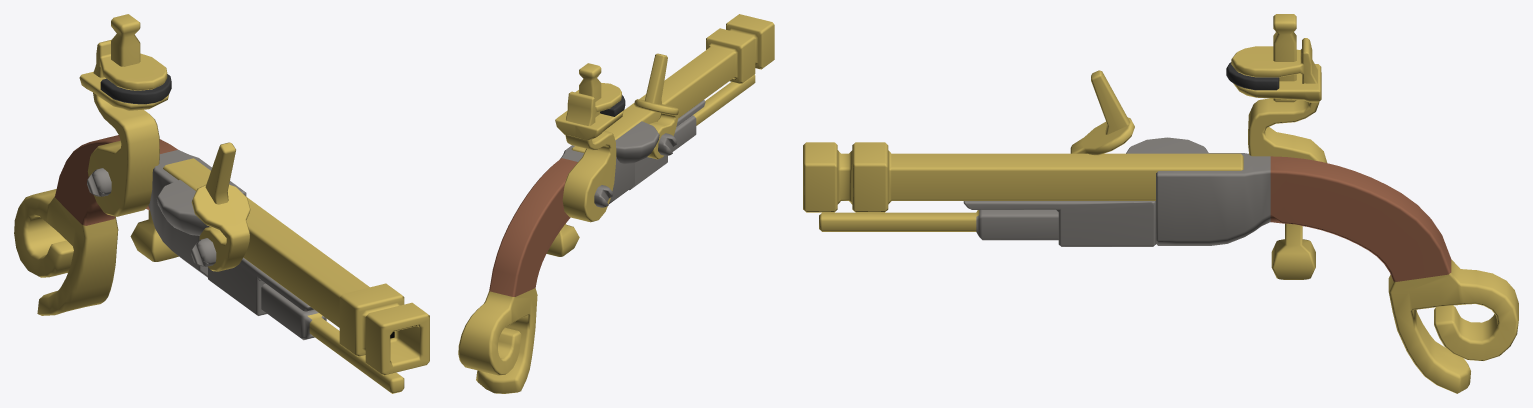
File: Admirals_Flintlock_Mesh.fbx
The picture shows the model from 3 angles, left to right: view 1: azimuth 30°, elevation 25°; view 2: azimuth 150°, elevation 25°; view 3: azimuth 270°, elevation 25°; orthographic projection. The views are drawn at different scales.
Visible parts, largest first — view 1: Admirals_Flintlock_mesh; view 2: Admirals_Flintlock_mesh; view 3: Admirals_Flintlock_mesh.
Part boxes in pixels (x1=…): Admirals_Flintlock_mesh: x1=14, y1=14, x2=429, y2=393; Admirals_Flintlock_mesh: x1=458, y1=14, x2=774, y2=393; Admirals_Flintlock_mesh: x1=803, y1=14, x2=1518, y2=393.
Size of the model in its own units: 4.82 by 18.8 by 34.48.
